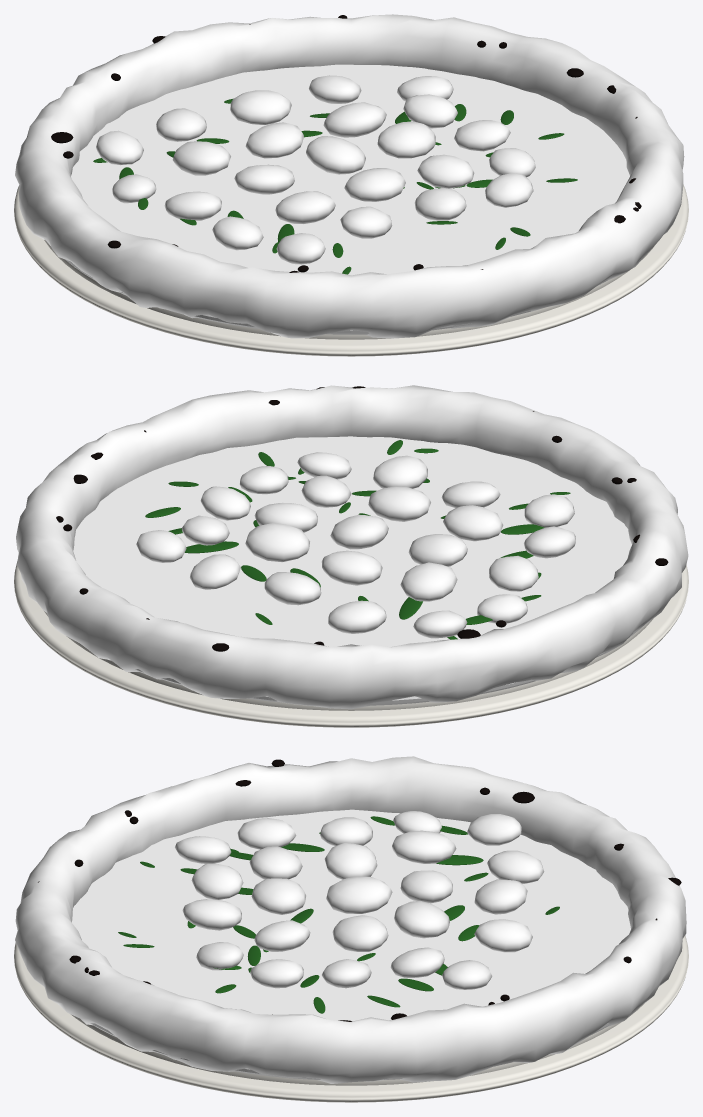
File: realistic_pizza.glb
3 views of the same model, one above another, from view 1: azimuth 30°, elevation 25°; view 2: azimuth 150°, elevation 25°; view 3: azimuth 270°, elevation 25° (orthographic).
Visible parts, largest first — view 1: Puffy Neapolitan Crust, Tomato Sauce, Modern Ceramic Plate, Plate Raised Rim, Mozzarella_13, Mozzarella_14, Mozzarella_03, Mozzarella_09, Mozzarella_18, Mozzarella_08, Mozzarella_07, Mozzarella_17 (+17 smaller); view 2: Puffy Neapolitan Crust, Tomato Sauce, Modern Ceramic Plate, Plate Raised Rim, Mozzarella_09, Mozzarella_18, Mozzarella_07, Mozzarella_17, Mozzarella_08, Mozzarella_13, Mozzarella_02, Mozzarella_12 (+17 smaller); view 3: Puffy Neapolitan Crust, Tomato Sauce, Modern Ceramic Plate, Mozzarella_13, Plate Raised Rim, Mozzarella_07, Mozzarella_14, Mozzarella_09, Mozzarella_18, Mozzarella_04, Mozzarella_12, Mozzarella_22 (+16 smaller).
Boxes of the visible parts, x1=… form: Puffy Neapolitan Crust: x1=15, y1=14, x2=684, y2=338; Tomato Sauce: x1=71, y1=64, x2=629, y2=275; Modern Ceramic Plate: x1=14, y1=184, x2=688, y2=356; Plate Raised Rim: x1=44, y1=240, x2=654, y2=339; Mozzarella_13: x1=306, y1=136, x2=365, y2=174; Mozzarella_14: x1=377, y1=121, x2=435, y2=158; Mozzarella_03: x1=230, y1=90, x2=291, y2=125; Mozzarella_09: x1=323, y1=102, x2=386, y2=137; Mozzarella_18: x1=344, y1=168, x2=405, y2=201; Mozzarella_08: x1=245, y1=122, x2=303, y2=158; Mozzarella_07: x1=172, y1=141, x2=230, y2=175; Mozzarella_17: x1=275, y1=191, x2=335, y2=223; Puffy Neapolitan Crust: x1=16, y1=385, x2=688, y2=709; Tomato Sauce: x1=73, y1=436, x2=631, y2=647; Modern Ceramic Plate: x1=14, y1=561, x2=688, y2=727; Plate Raised Rim: x1=44, y1=611, x2=653, y2=710; Mozzarella_09: x1=245, y1=523, x2=309, y2=562; Mozzarella_18: x1=368, y1=486, x2=430, y2=521; Mozzarella_07: x1=400, y1=562, x2=457, y2=601; Mozzarella_17: x1=443, y1=505, x2=503, y2=541; Mozzarella_08: x1=321, y1=550, x2=382, y2=585; Mozzarella_13: x1=330, y1=514, x2=388, y2=549; Mozzarella_02: x1=328, y1=600, x2=386, y2=633; Mozzarella_12: x1=408, y1=534, x2=467, y2=566; Puffy Neapolitan Crust: x1=15, y1=756, x2=686, y2=1083; Tomato Sauce: x1=72, y1=809, x2=630, y2=1021; Modern Ceramic Plate: x1=14, y1=935, x2=688, y2=1102; Mozzarella_13: x1=326, y1=876, x2=392, y2=913; Plate Raised Rim: x1=71, y1=1003, x2=644, y2=1085; Mozzarella_07: x1=392, y1=830, x2=456, y2=863; Mozzarella_14: x1=332, y1=915, x2=388, y2=951; Mozzarella_09: x1=394, y1=900, x2=449, y2=938; Mozzarella_18: x1=251, y1=878, x2=305, y2=914; Mozzarella_04: x1=474, y1=919, x2=532, y2=952; Mozzarella_12: x1=324, y1=843, x2=377, y2=879; Mozzarella_22: x1=191, y1=863, x2=243, y2=899.
Size of what is drawn, in the model's own units: 7.3 by 0.934 by 7.3.
